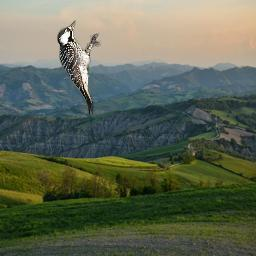Woodpecker: (57, 20, 101, 116)
